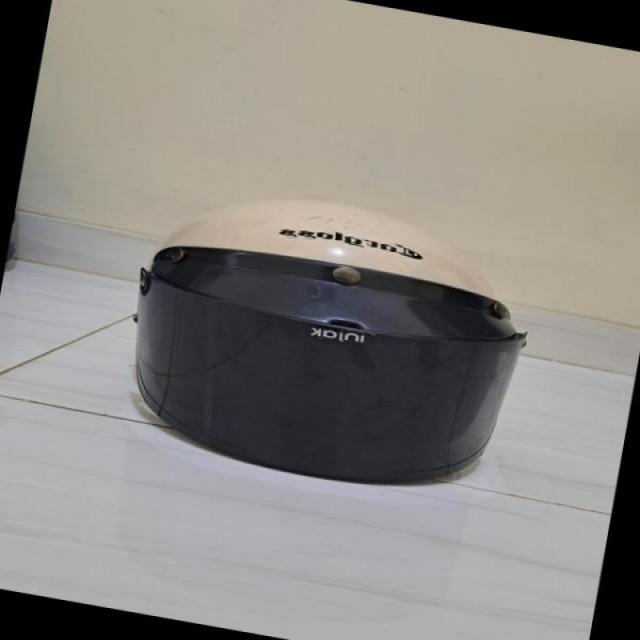Helmet: (125, 209, 509, 492)
